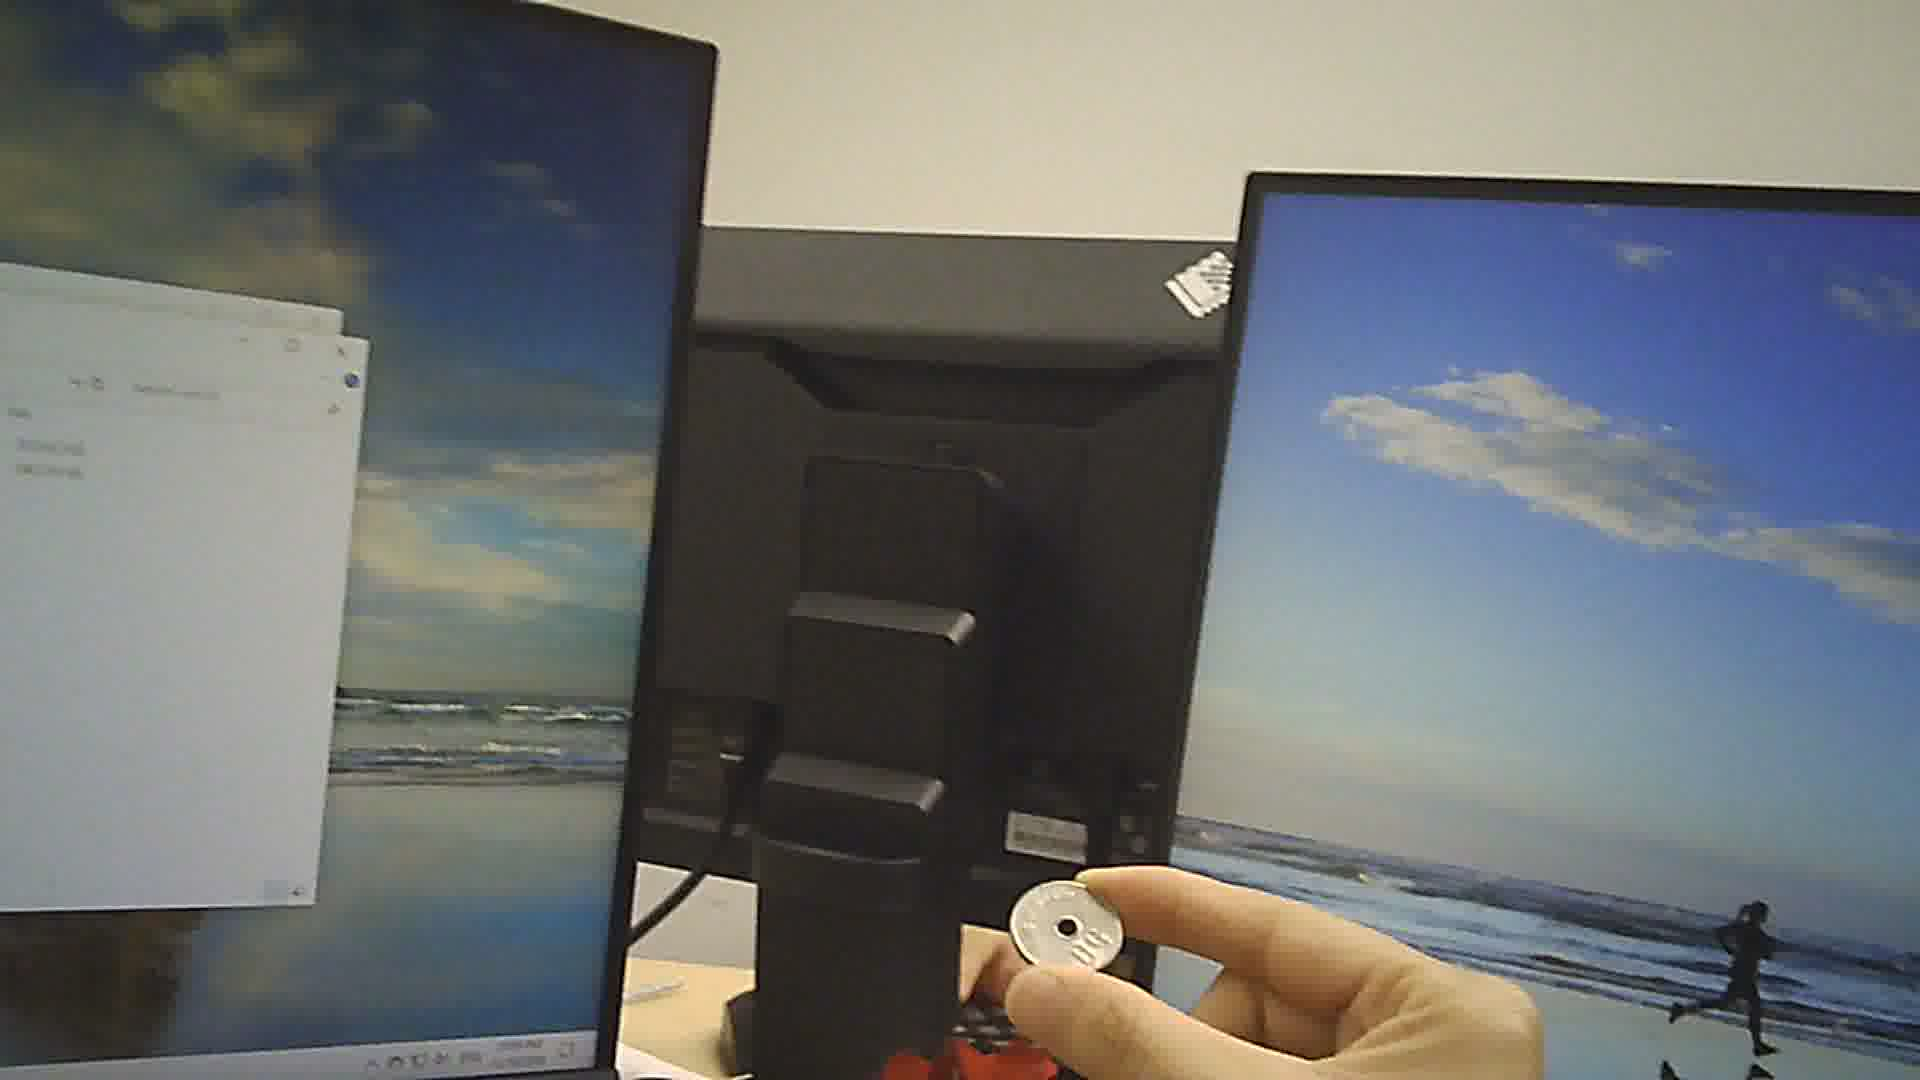50 Yen: (1002, 876, 1129, 990)
